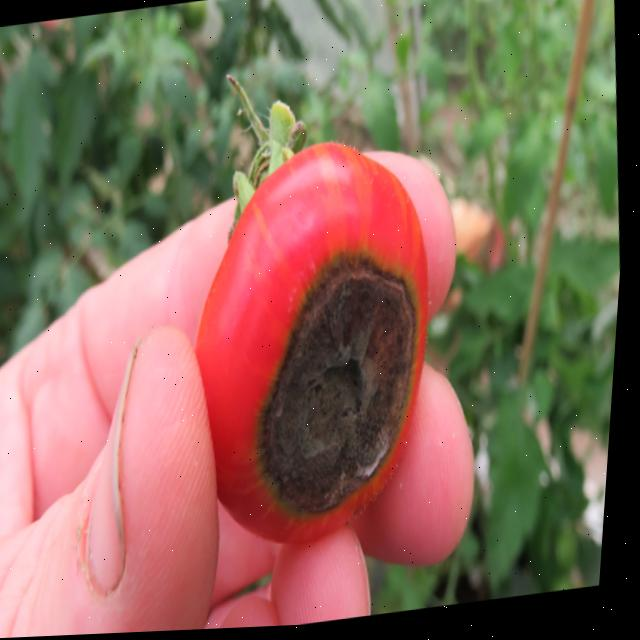damaged: (139, 100, 477, 589)
